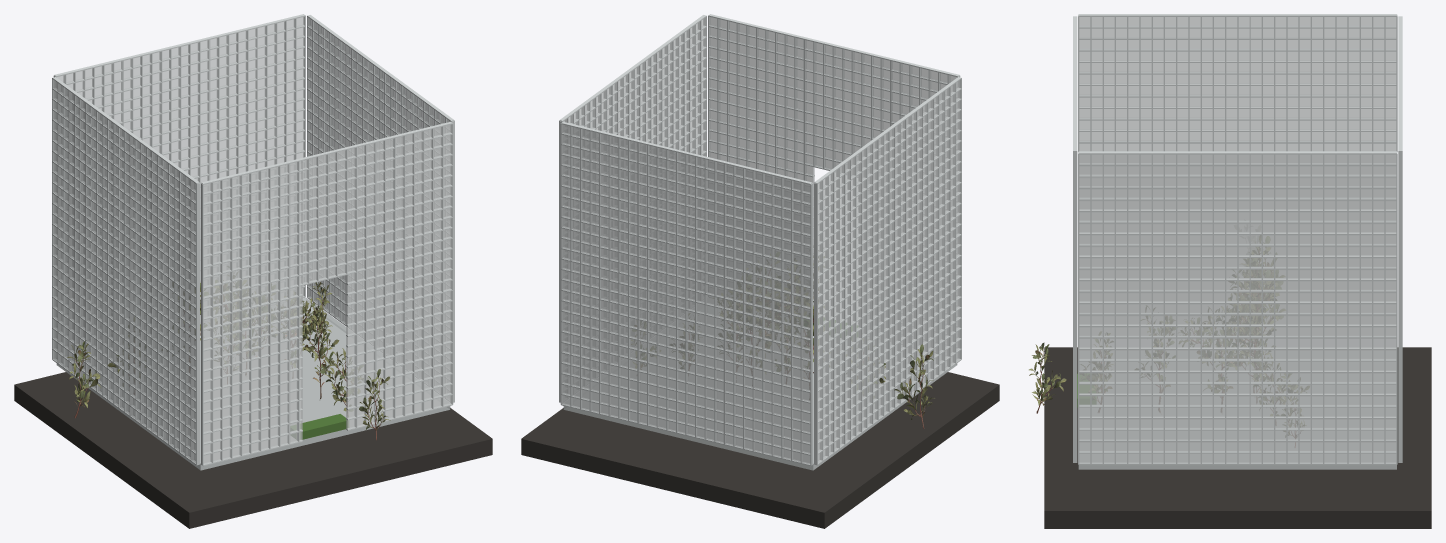
The model's file is summer.glb.
3 renders of one model, left to right at view 1: azimuth 30°, elevation 25°; view 2: azimuth 150°, elevation 25°; view 3: azimuth 270°, elevation 25°, orthographic. The views are drawn at different scales.
Parts seen in each view (by area): view 1: Summer_Sheet, Summer_Grid, Summer_Base, Summer_Floor, Summer_Plant_1, Summer_Plant_0, Summer_Plant_2, Summer_Grass; view 2: Summer_Sheet, Summer_Grid, Summer_Base, Summer_Floor, Summer_Plant_0, Summer_Plant_2, Summer_Plant_1; view 3: Summer_Sheet, Summer_Grid, Summer_Base, Summer_Floor, Summer_Plant_1, Summer_Plant_0, Summer_Plant_2.
Part boxes in pixels (left/top/right/bottom): Summer_Sheet: left=53, top=17, right=451, bottom=464; Summer_Grid: left=52, top=14, right=454, bottom=466; Summer_Base: left=14, top=372, right=492, bottom=528; Summer_Floor: left=56, top=297, right=450, bottom=470; Summer_Plant_1: left=273, top=292, right=390, bottom=440; Summer_Plant_0: left=67, top=266, right=267, bottom=418; Summer_Plant_2: left=209, top=282, right=331, bottom=383; Summer_Grass: left=291, top=414, right=348, bottom=439; Summer_Sheet: left=562, top=17, right=960, bottom=464; Summer_Grid: left=559, top=14, right=961, bottom=466; Summer_Base: left=521, top=372, right=999, bottom=528; Summer_Floor: left=563, top=298, right=957, bottom=470; Summer_Plant_0: left=731, top=285, right=934, bottom=428; Summer_Plant_2: left=631, top=302, right=796, bottom=383; Summer_Plant_1: left=718, top=252, right=824, bottom=351; Summer_Sheet: left=1079, top=17, right=1396, bottom=463; Summer_Grid: left=1073, top=14, right=1402, bottom=465; Summer_Base: left=1044, top=347, right=1431, bottom=528; Summer_Floor: left=1078, top=328, right=1396, bottom=469; Summer_Plant_1: left=1029, top=306, right=1235, bottom=413; Summer_Plant_0: left=1227, top=235, right=1285, bottom=392; Summer_Plant_2: left=1216, top=293, right=1309, bottom=446.
Bounding box in the file's own units: 2.57 × 2.44 × 2.46.
Materials: 6 (1 with a texture image).
